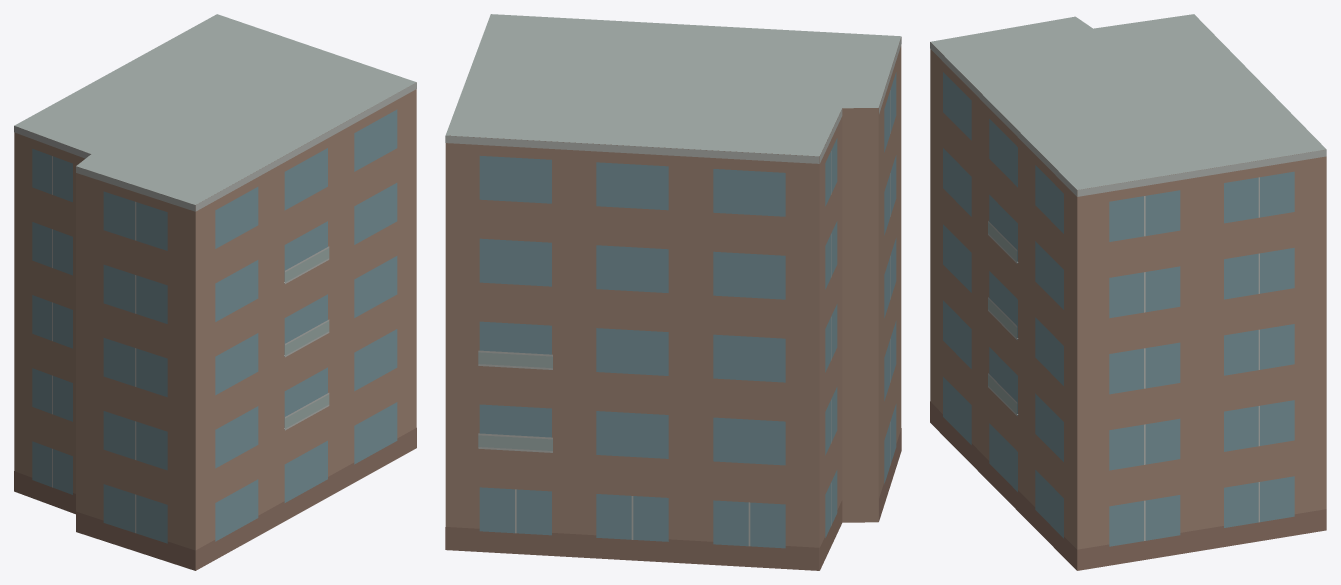
The model's file is survey-upis-32853828.glb.
3 views of the same model, side by side, from view 1: azimuth 30°, elevation 25°; view 2: azimuth 150°, elevation 25°; view 3: azimuth 270°, elevation 25° (orthographic). The views are drawn at different scales.
Visible parts, largest first — view 1: survey-upis-32853828.tmp; view 2: survey-upis-32853828.tmp; view 3: survey-upis-32853828.tmp.
Part boxes in pixels (x1,y1,x2,y2): survey-upis-32853828.tmp: [14, 14, 416, 570]; survey-upis-32853828.tmp: [445, 14, 901, 570]; survey-upis-32853828.tmp: [930, 14, 1326, 570].
Bounding box in the file's own units: 13.29 × 13.4 × 12.65.
